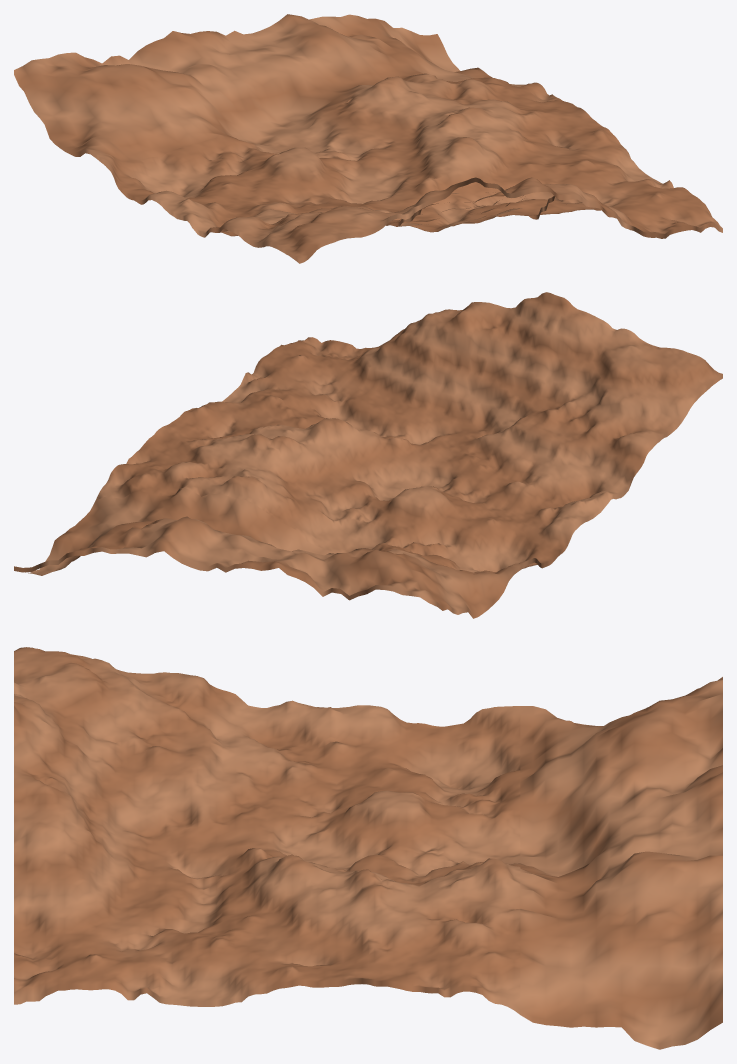
Rendered from terrain-035.glb.
3 renders of one model, top to bottom at view 1: azimuth 30°, elevation 25°; view 2: azimuth 150°, elevation 25°; view 3: azimuth 270°, elevation 25°, orthographic. The views are drawn at different scales.
Parts seen in each view (by area): view 1: terrain-035; view 2: terrain-035; view 3: terrain-035.
Boxes of the visible parts, x1,y1,x2,y2 form: terrain-035: (14,14,722,263); terrain-035: (14,292,722,618); terrain-035: (14,647,722,1049).
Size of the model in its own units: 384 by 132 by 448.
